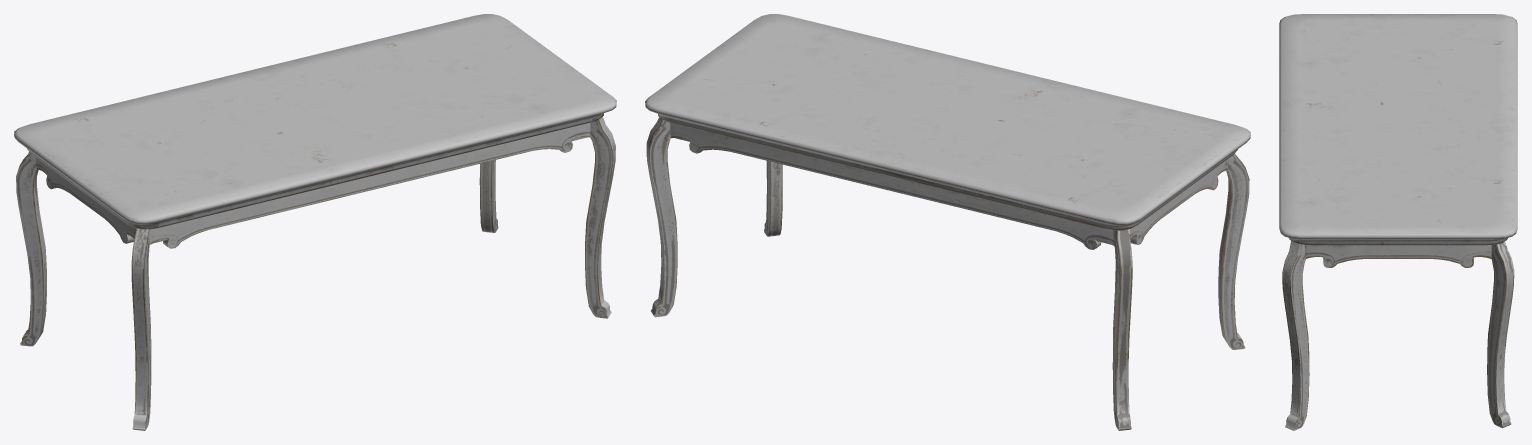
The model's file is table_2.FBX.
3 views of the same model, side by side, from view 1: azimuth 30°, elevation 25°; view 2: azimuth 150°, elevation 25°; view 3: azimuth 270°, elevation 25° (orthographic). The views are drawn at different scales.
Parts seen in each view (by area): view 1: Table_2; view 2: Table_2; view 3: Table_2.
Part boxes in pixels (bbox=[...]): Table_2: bbox=[14, 14, 616, 430]; Table_2: bbox=[645, 14, 1250, 430]; Table_2: bbox=[1279, 14, 1517, 430].
Size of the model in its own units: 175 by 73.38 by 79.68.
1 material, 1 textured.
